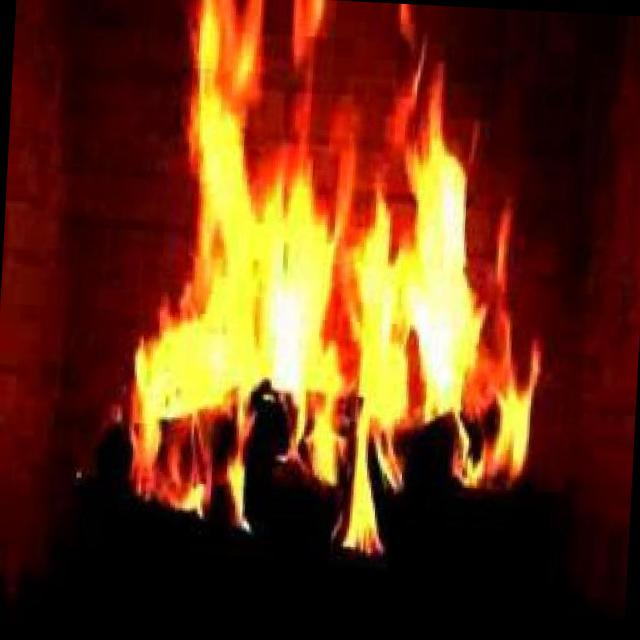Fire: (99, 0, 569, 575)
